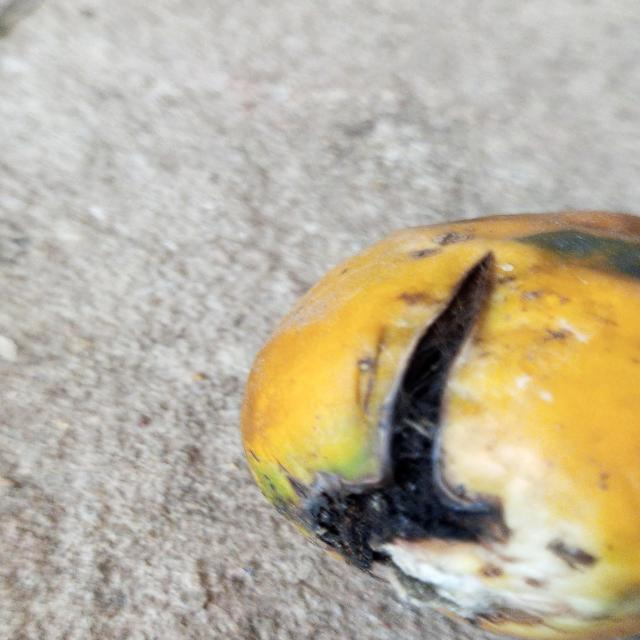damaged: (241, 212, 640, 640)
